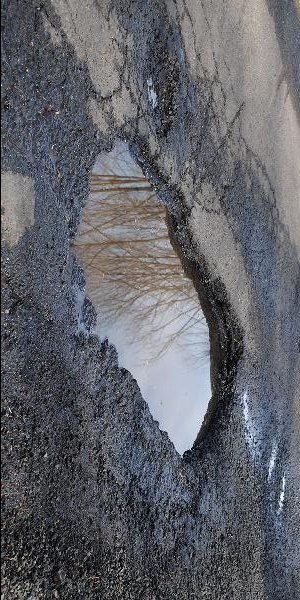pothole: (67, 128, 247, 466), (142, 19, 183, 138)
